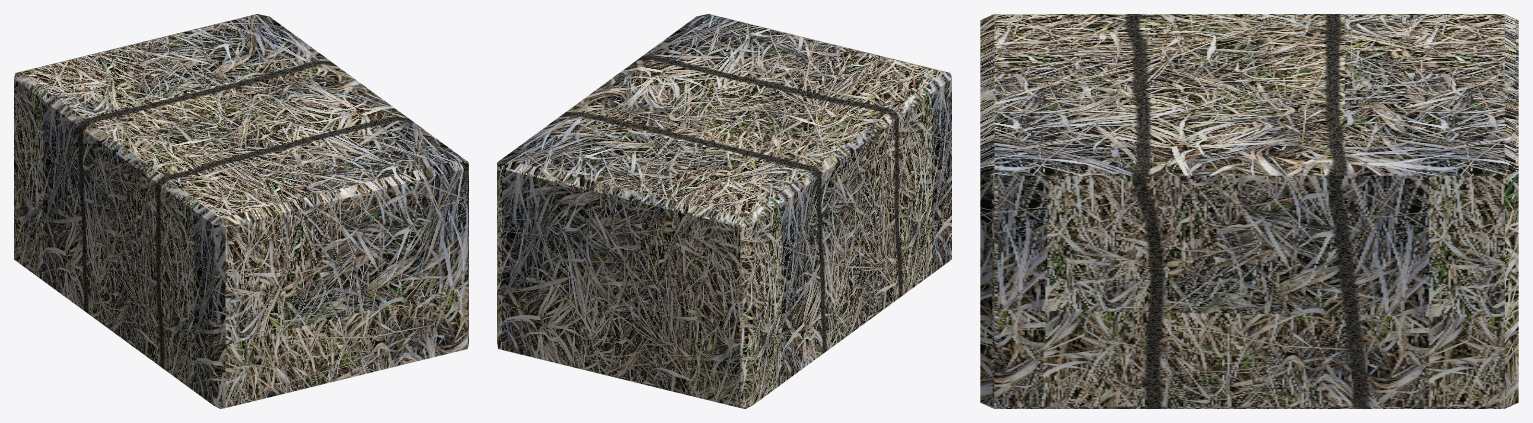
The model's file is Haybale.fbx.
The picture shows the model from 3 angles, left to right: view 1: azimuth 30°, elevation 25°; view 2: azimuth 150°, elevation 25°; view 3: azimuth 270°, elevation 25°; orthographic projection. The views are drawn at different scales.
Parts seen in each view (by area): view 1: Cube; view 2: Cube; view 3: Cube.
Part boxes in pixels (x1,y1,x2,y2): Cube: (14, 14, 468, 408); Cube: (497, 14, 951, 408); Cube: (980, 14, 1518, 408).
Size of the model in its own units: 140 by 100 by 200.
